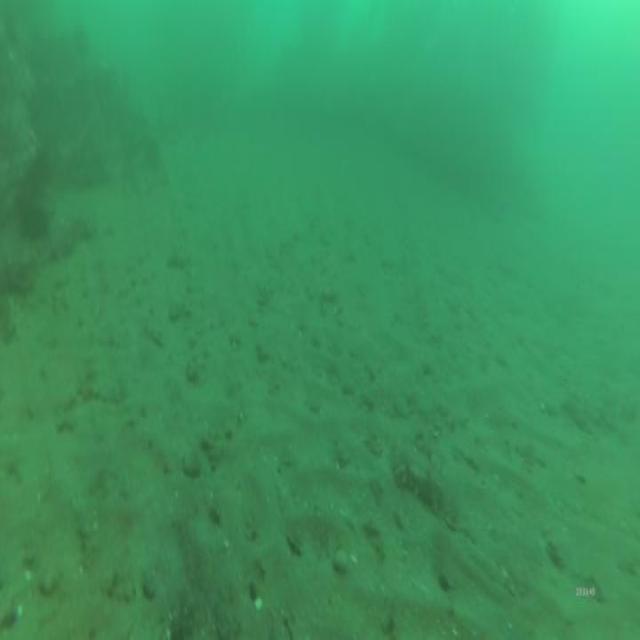holothurian: (388, 460, 468, 532)
